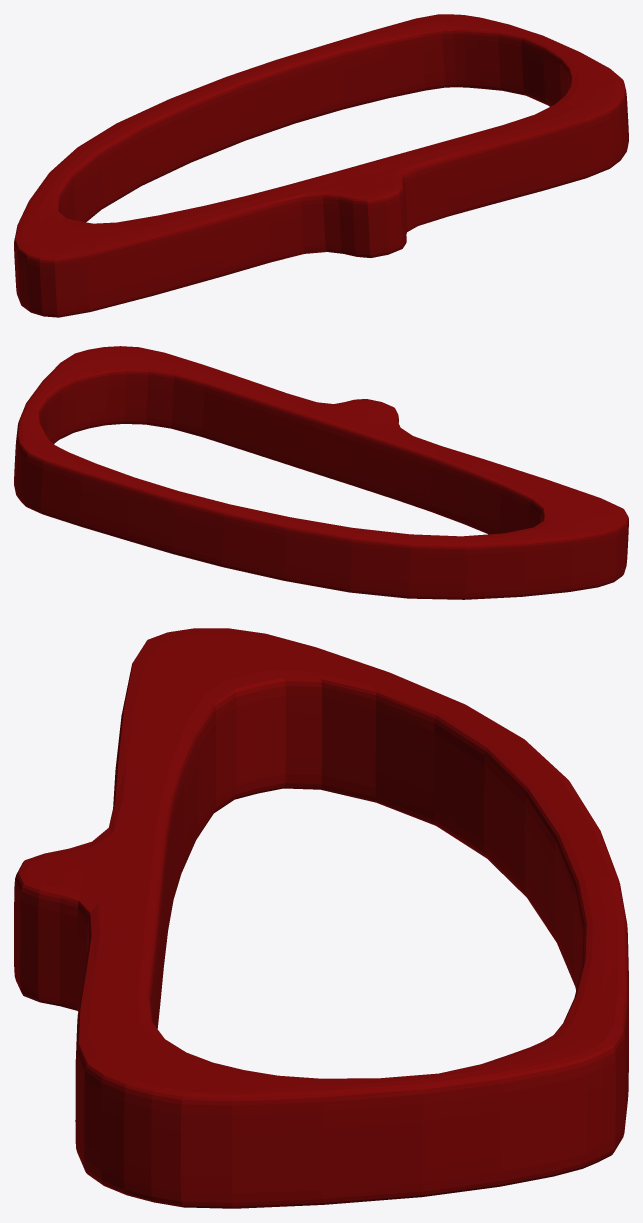
File: original-5.obj
The picture shows the model from 3 angles, top to bottom: view 1: azimuth 30°, elevation 25°; view 2: azimuth 150°, elevation 25°; view 3: azimuth 270°, elevation 25°; orthographic projection. The views are drawn at different scales.
Parts seen in each view (by area): view 1: #ID35; view 2: #ID35; view 3: #ID35.
Part boxes in pixels (<box>): #ID35: <box>14,14,628,317</box>; #ID35: <box>14,346,628,599</box>; #ID35: <box>14,628,628,1208</box>.
Bounding box in the file's own units: 0.6286 × 0.0933 × 0.3047.
